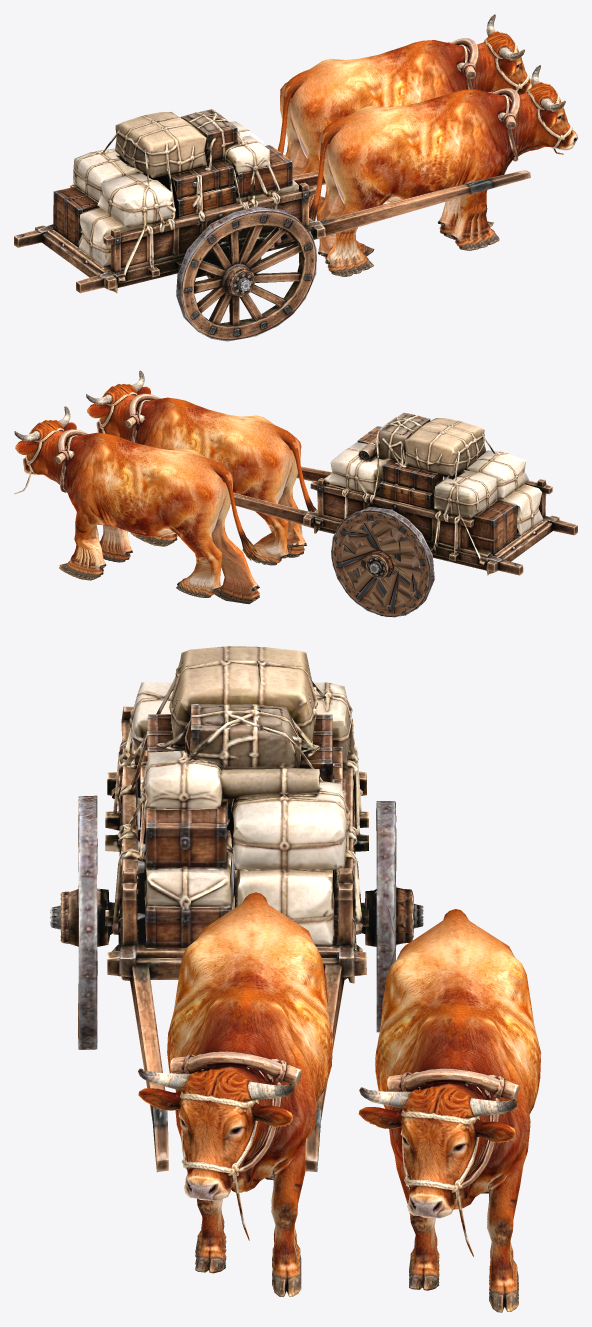
File: qm_oxcart_walk.glb
3 renders of one model, top to bottom at view 1: azimuth 30°, elevation 25°; view 2: azimuth 150°, elevation 25°; view 3: azimuth 270°, elevation 25°, orthographic. The views are drawn at different scales.
Visible parts, largest first — view 1: f0, f2, f1, f6, f4, f5; view 2: f0, f5, f3, f6, f4, f2, f1, f7; view 3: f0, f3, f4, f7, f2, f1.
Part boxes in pixels (x1,y1,x2,y2): f0: (14, 14, 577, 341); f2: (238, 155, 487, 296); f1: (231, 140, 495, 296); f6: (229, 155, 374, 295); f4: (232, 152, 493, 289); f5: (228, 139, 366, 294); f0: (14, 370, 577, 616); f5: (68, 500, 430, 610); f3: (59, 510, 428, 617); f6: (76, 478, 430, 611); f4: (63, 511, 422, 616); f2: (65, 494, 430, 613); f1: (72, 500, 429, 615); f7: (78, 510, 431, 615); f0: (50, 646, 541, 1286); f3: (50, 823, 524, 1312); f4: (51, 802, 518, 1303); f7: (50, 804, 518, 1290); f2: (50, 866, 518, 1302); f1: (50, 802, 518, 1295).
Bounding box in the file's own units: 5.5 × 1.97 × 2.45.
Materials: 3 (3 with a texture image).
